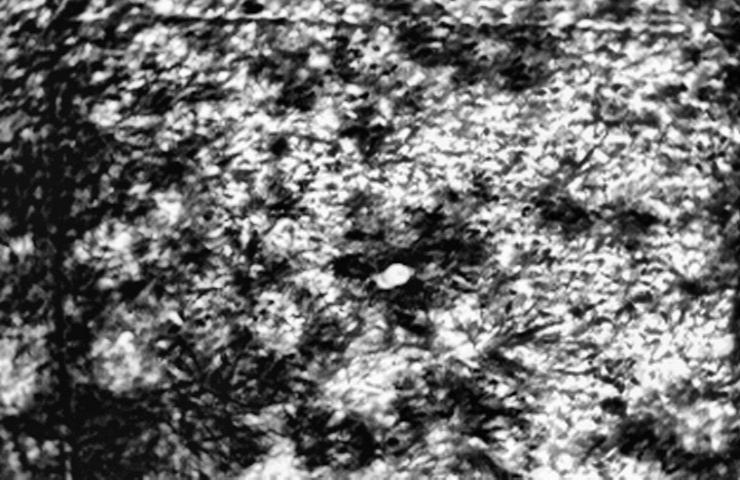landmines: (372, 261, 417, 294)
